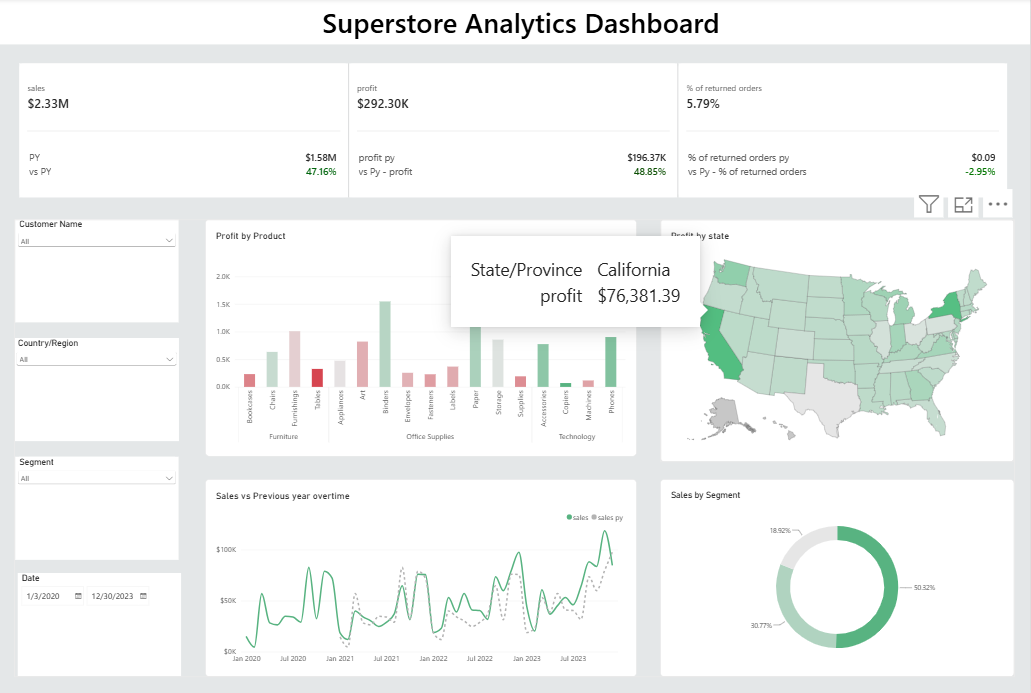

What the dashboard file says about the page in this screenshot:
{"tool":"powerbi","page":{"name":"Page 1","canvas":[2000,1350],"ordinal":0},"visuals":[{"type":"cardVisual","fields":{"Data":["key measures.sales","key measures.profit","key measures.% of returned orders"]},"box":[20,120,1956.7,280],"z":0},{"type":"shape","box":[0,0,2000,90],"z":1000},{"type":"lineChart","title":"Sales vs Previous year overtime ","fields":{"Category":["Date table.start of month"],"Y":["key measures.sales","key measures.sales py"]},"box":[400,933.3,836.7,383.3],"z":2000,"group":"g1"},{"type":"columnChart","title":"Profit by Product","fields":{"Category":["Orders.Category","Orders.Sub-Category"],"Y":["CountNonNull(Orders.Profit)"]},"box":[400,430,836.7,460],"z":3000,"group":"g1"},{"type":"shapeMap","title":"Profit by state","fields":{"Category":["Orders.State/Province"],"Value":["key measures.profit"]},"box":[1283.3,430,686.7,470],"z":4000,"group":"g1"},{"type":"donutChart","title":"Sales by Segment","fields":{"Category":["Orders.Segment"],"Y":["key measures.sales"]},"box":[1283.3,933.3,686.7,383.3],"z":5000,"group":"g1"},{"type":"slicer","fields":{"Values":["Orders.Customer Name"]},"box":[33.3,430,316.7,200],"z":5500,"group":"g1"},{"type":"slicer","fields":{"Values":["Orders.Segment"]},"box":[33.3,890,316.7,200],"z":6000,"group":"g1"},{"type":"slicer","fields":{"Values":["Date table.Date"]},"box":[36.7,1116.7,316.7,200],"z":6500,"group":"g1"},{"type":"slicer","fields":{"Values":["Orders.Country/Region"]},"box":[30,660,320,200],"z":7000,"group":"g1"},{"type":"group","id":"g1","title":"Group 1","box":[30,430,1940,886.7],"z":7001}]}

Visuals, with their boxes in screenshot pixels (x1, y1, x2, y2), scaled from the page's 2000x1350 canvas onto the 1031x693 screenshot:
cardVisual - key measures.sales x key measures.profit: [10,62,1019,205]
shape: [0,0,1030,46]
"Sales vs Previous year overtime " lineChart: [206,479,638,676]
"Profit by Product" columnChart: [206,221,638,457]
"Profit by state" shapeMap: [662,221,1016,462]
"Sales by Segment" donutChart: [662,479,1016,676]
slicer - Orders.Customer Name: [17,221,180,323]
slicer - Orders.Segment: [17,457,180,560]
slicer - Date table.Date: [19,573,182,676]
slicer - Orders.Country/Region: [15,339,180,441]
"Group 1" group: [15,221,1016,676]
